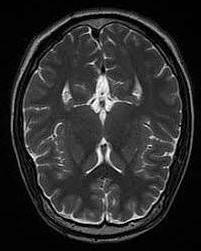Normal_Brain: (1, 4, 201, 251)
